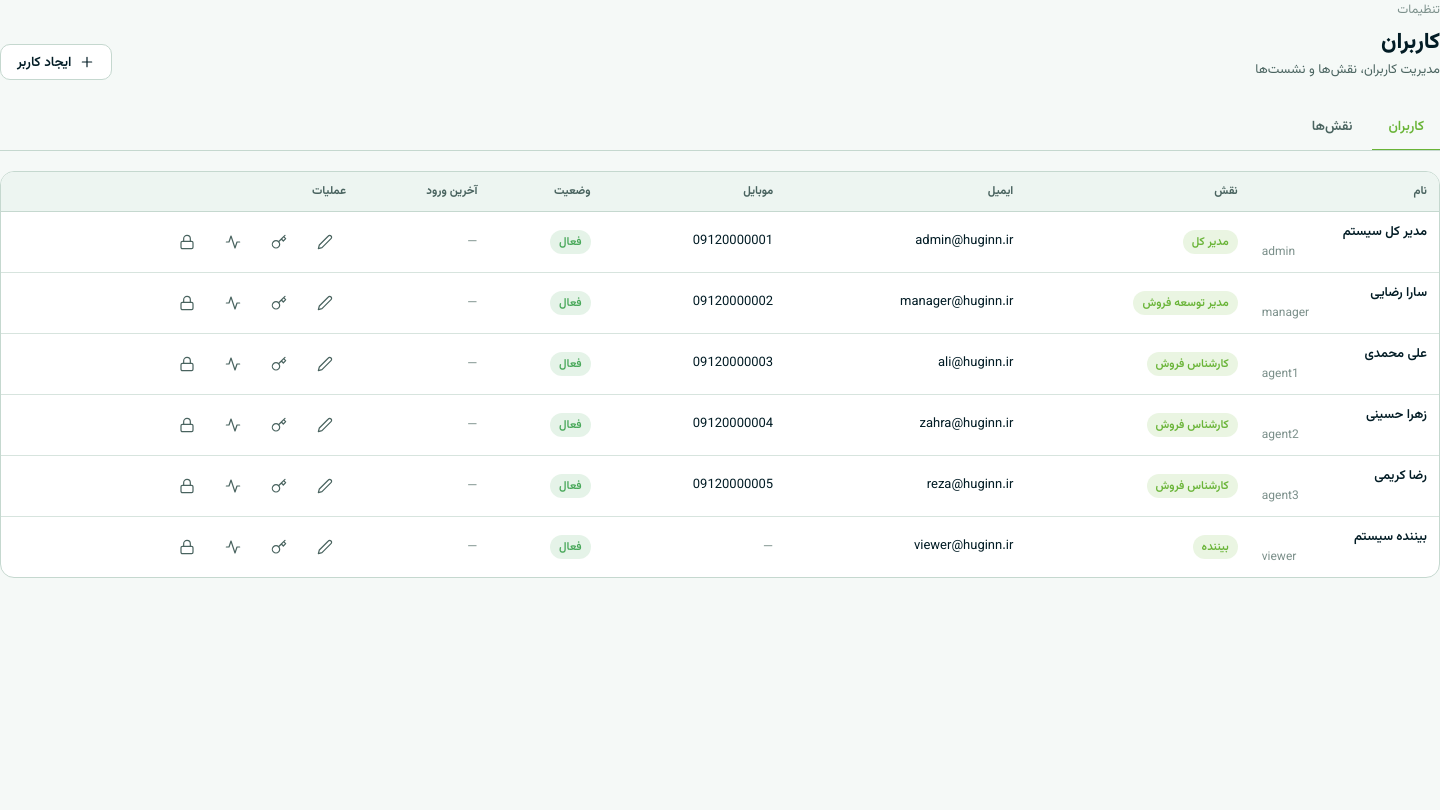
Test: user edit › saves edited user fields through the dialog
Check: the text "علی محمدی" is shown, box [1364,344,1427,364]
Open the edit dialog for the first user (edit icon buttons carry the edit label).
Click the button named "ویرایش" in the row of "مدیر کل سیستم": [325, 242] box [304,227,346,257]
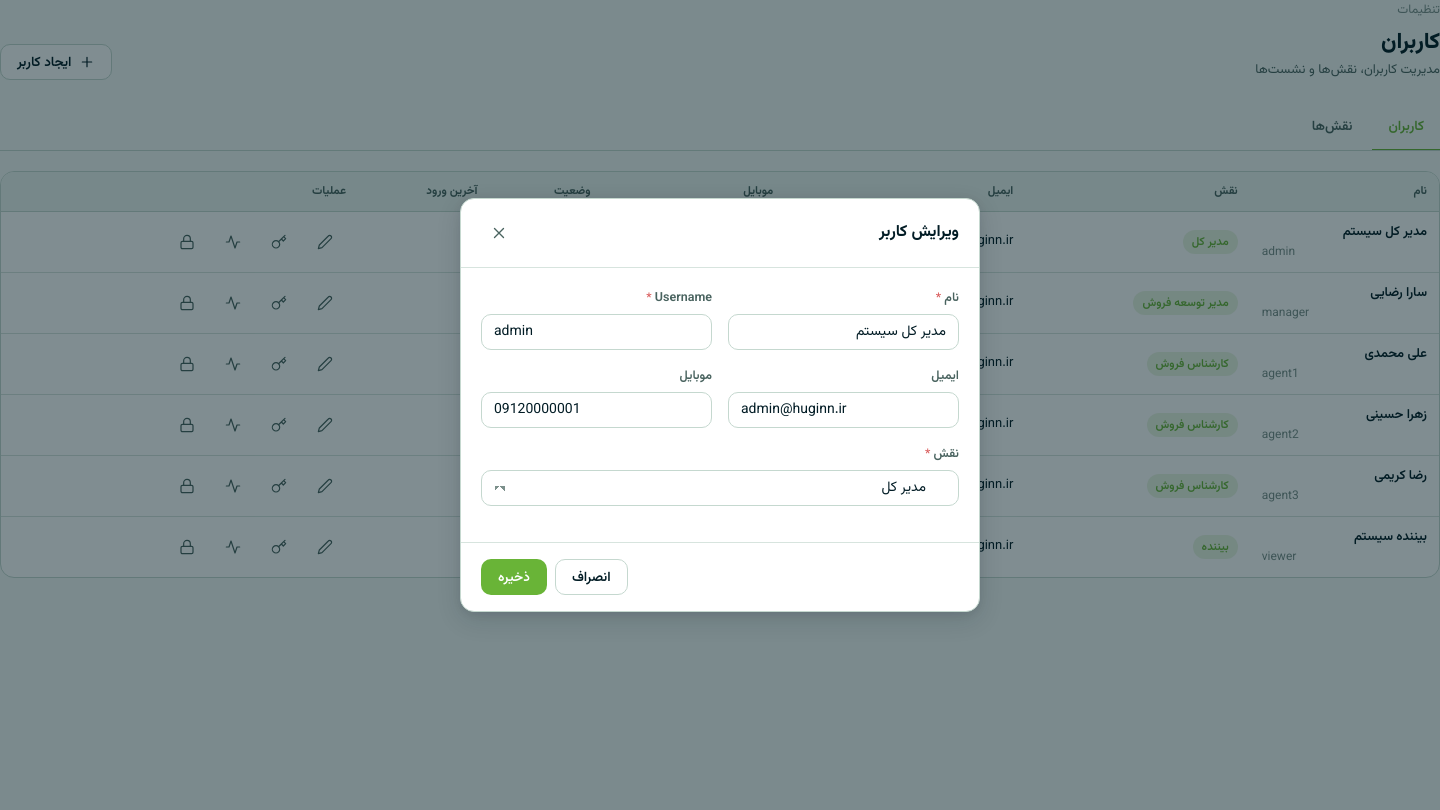
Check: the dialog is shown
Check: the field labelled "نام *" is not empty
Replace the text in the field labelled "نام *" with "علی رحیمی": [844, 332] box [728,314,959,350]
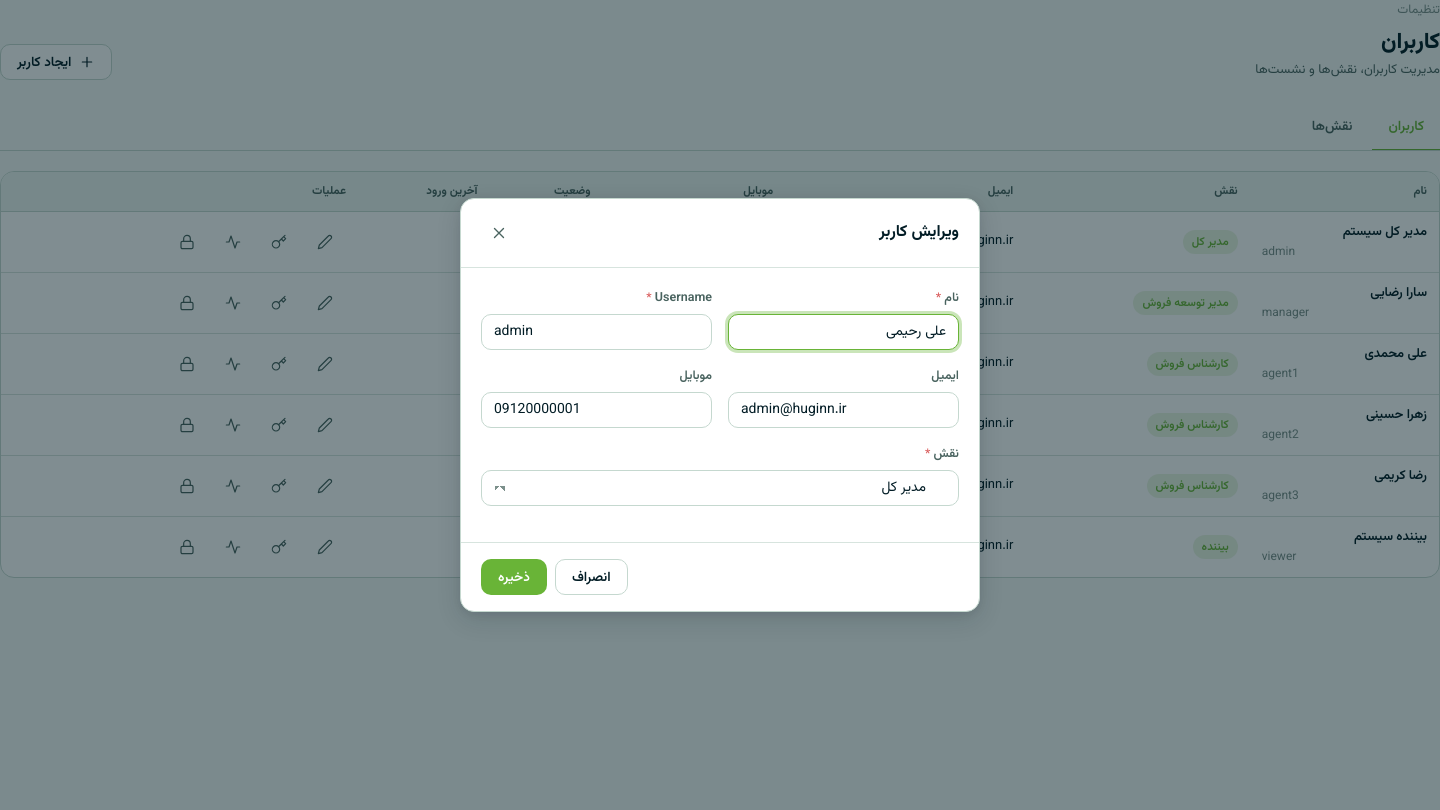
Click the button "ذخیره": [514, 577] box [481,559,547,595]
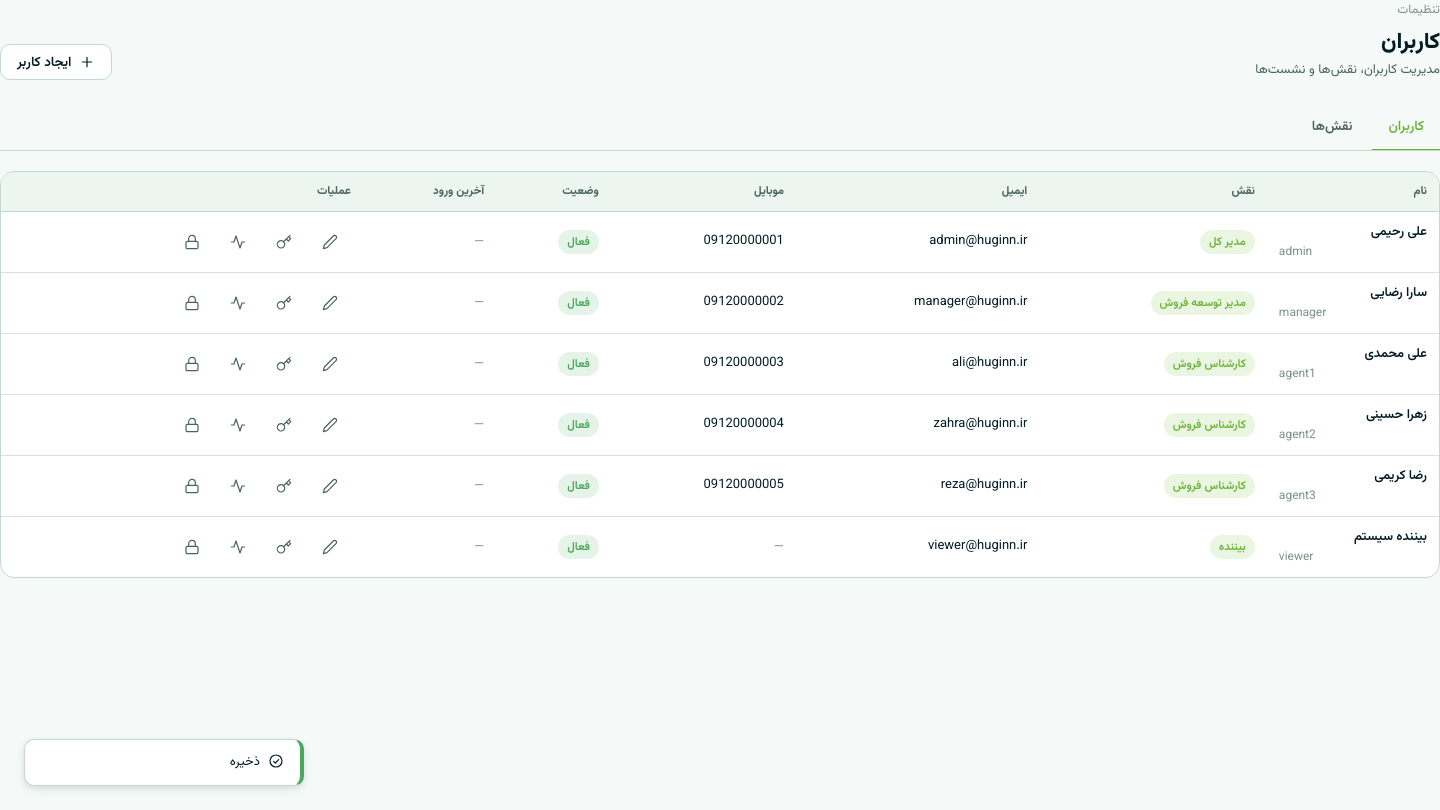
Check: the text "علی رحیمی" is shown, box [1371,222,1427,242]
Check: the dialog is gone
